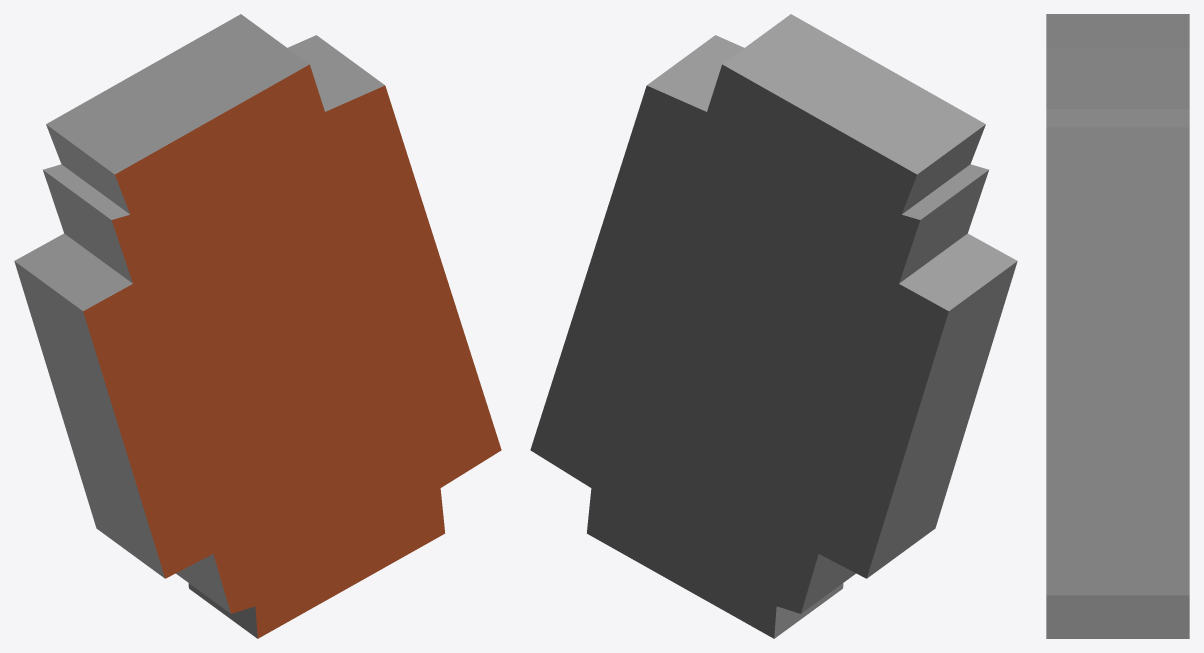
The model's file is construction_2042_assumed_A_Casa_h6m.obj.
3 renders of one model, left to right at view 1: azimuth 30°, elevation 25°; view 2: azimuth 150°, elevation 25°; view 3: azimuth 270°, elevation 25°, orthographic. The views are drawn at different scales.
Visible parts, largest first — view 1: construction_2042_assumed_A_Casa; view 2: construction_2042_assumed_A_Casa; view 3: construction_2042_assumed_A_Casa.
Part boxes in pixels (bbox=[...]): construction_2042_assumed_A_Casa: bbox=[14, 14, 501, 638]; construction_2042_assumed_A_Casa: bbox=[530, 14, 1017, 638]; construction_2042_assumed_A_Casa: bbox=[1046, 14, 1189, 638].
Bounding box in the file's own units: 21.07 × 27.02 × 6.
